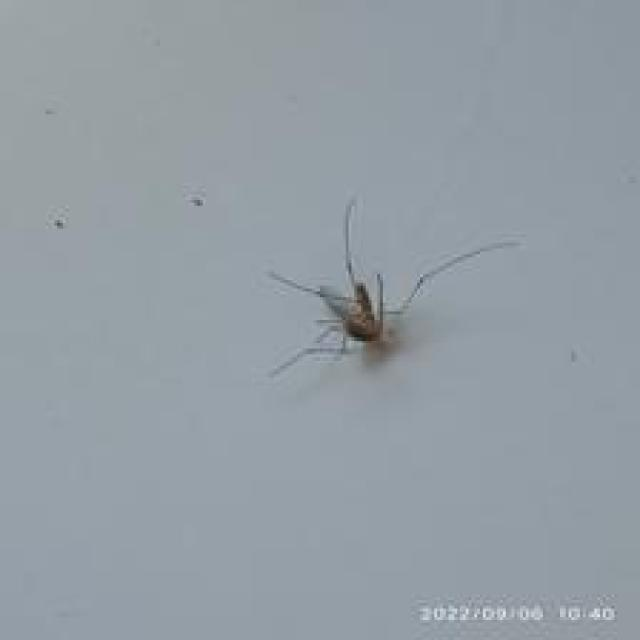Culex: (264, 197, 522, 380)
